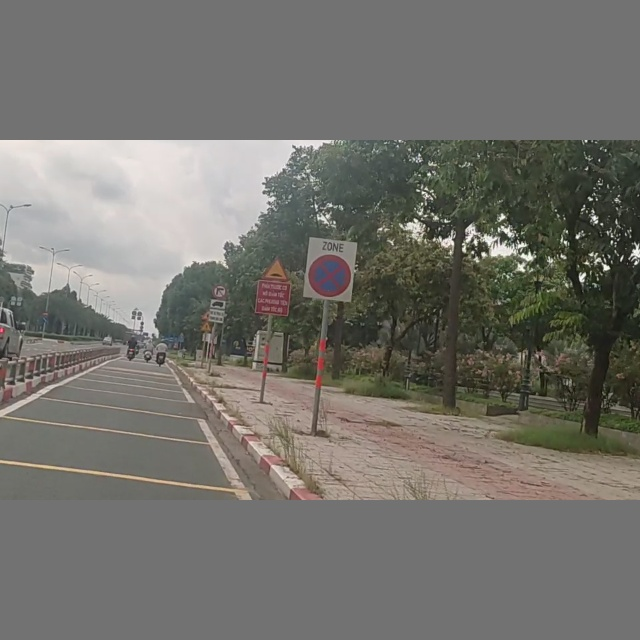P.123b: (211, 284, 227, 299)
P.130: (305, 237, 355, 301)
S.505a*Xe tai: (209, 298, 225, 323)
W.221b: (261, 257, 289, 281)
